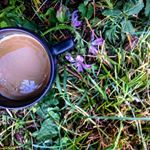cups: (1, 27, 76, 112)
